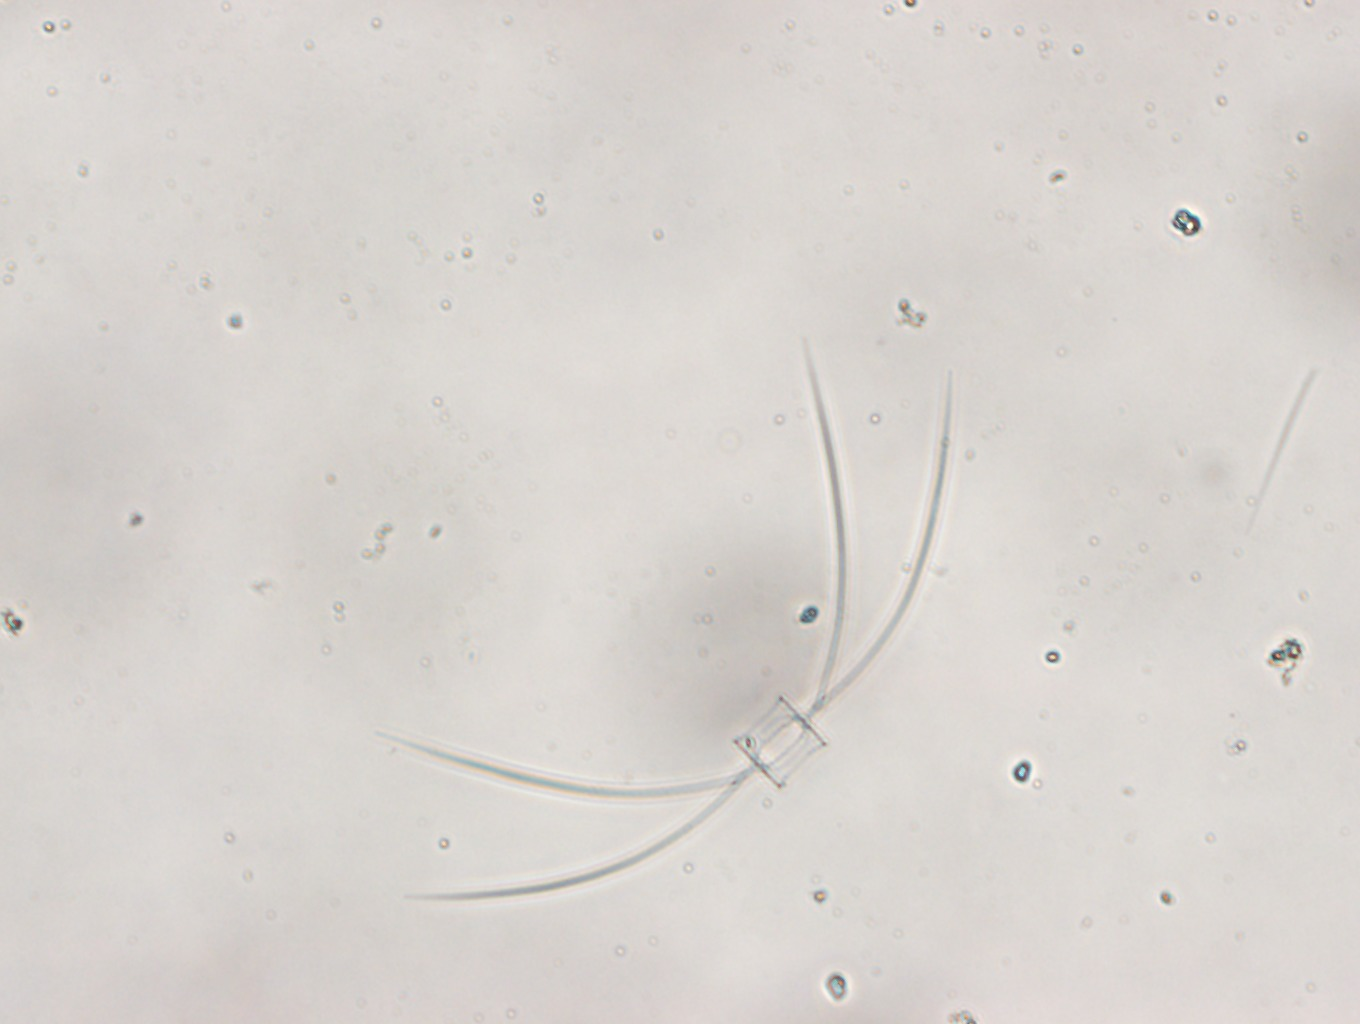chaetoceros: (387, 340, 953, 901)
